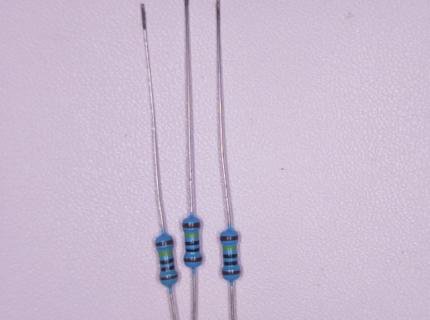Black band: (160, 258, 174, 265), (161, 265, 174, 272), (224, 254, 238, 259), (224, 261, 238, 265), (186, 248, 199, 252), (186, 241, 199, 245)
Brown band: (156, 240, 173, 246), (185, 257, 202, 263), (222, 271, 240, 276), (221, 236, 238, 241), (161, 275, 178, 280), (183, 223, 200, 228)
Yellow band: (159, 251, 173, 257), (185, 233, 199, 237), (223, 247, 237, 250)
